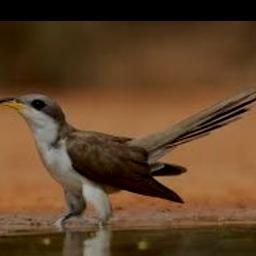Cuckoo: (0, 85, 256, 227)
